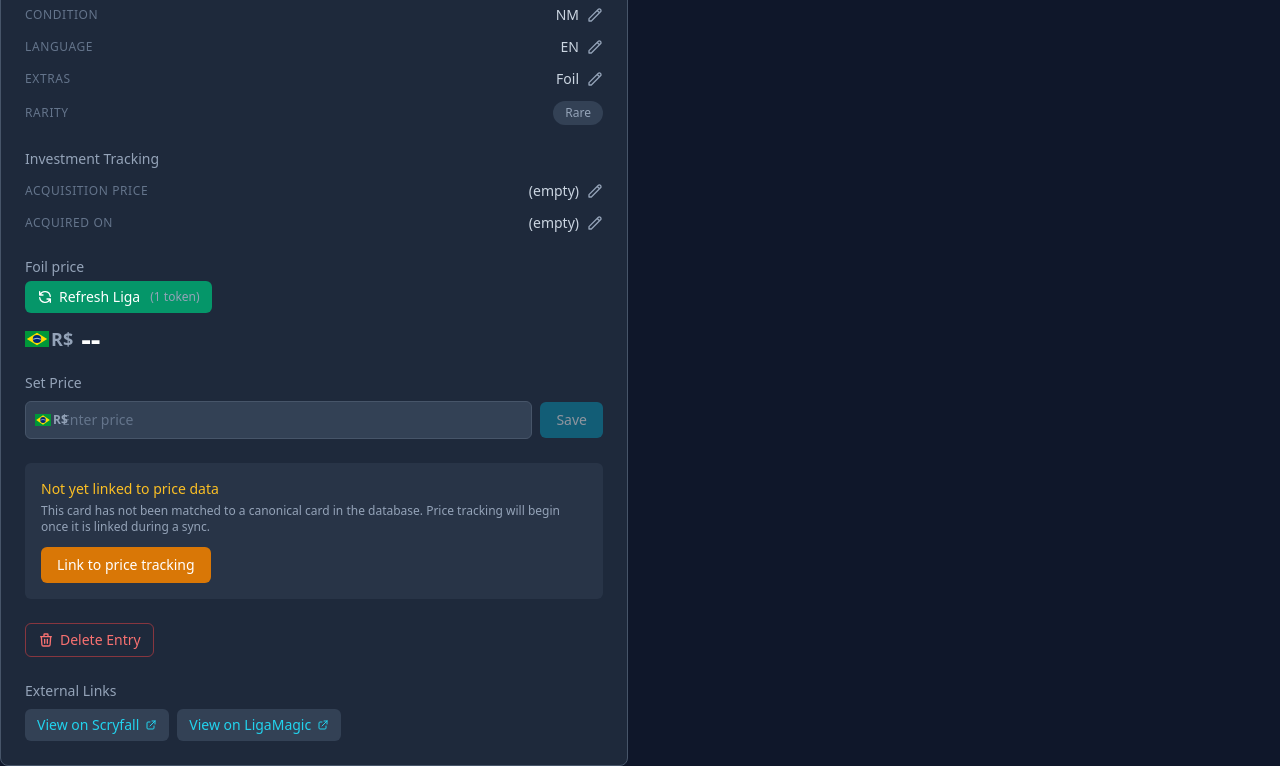
Test: CollectionCardDetail page › canonize partial success shows amber warning message
(page scrolled)
Note: Click canonize
Click the button with test id "canonize-btn": (126, 565) [41,547,211,583]
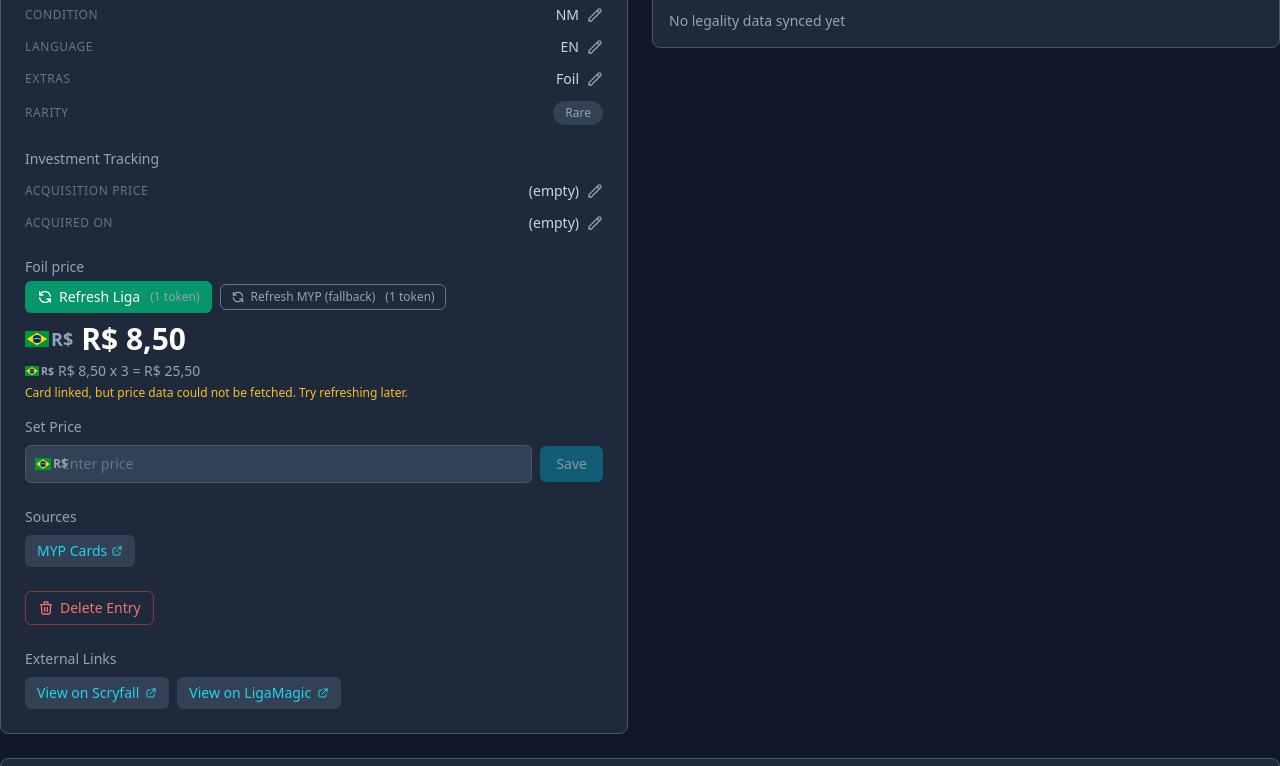
Check: the text with test id "refresh-message" is shown, box [25,384,408,401]
